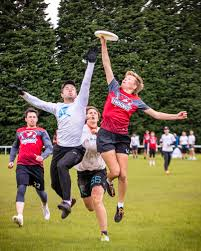disc: (93, 28, 121, 42)
